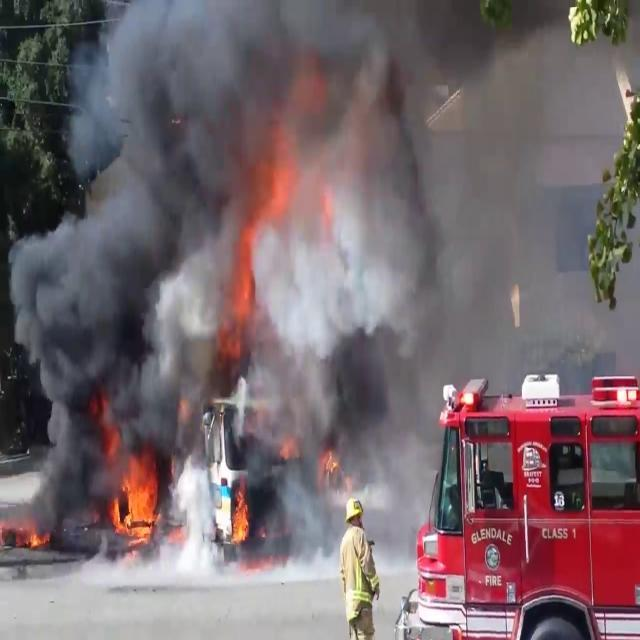Fire: (109, 442, 163, 552), (0, 506, 48, 553), (228, 478, 252, 550)
Smoke: (8, 1, 630, 457)
